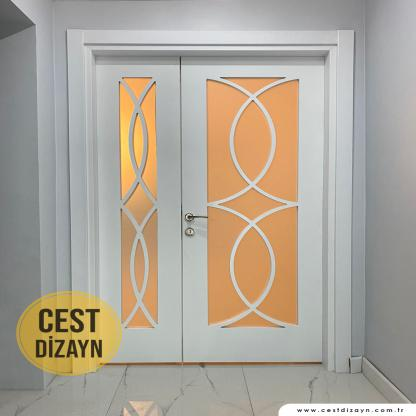door: (181, 58, 324, 362)
